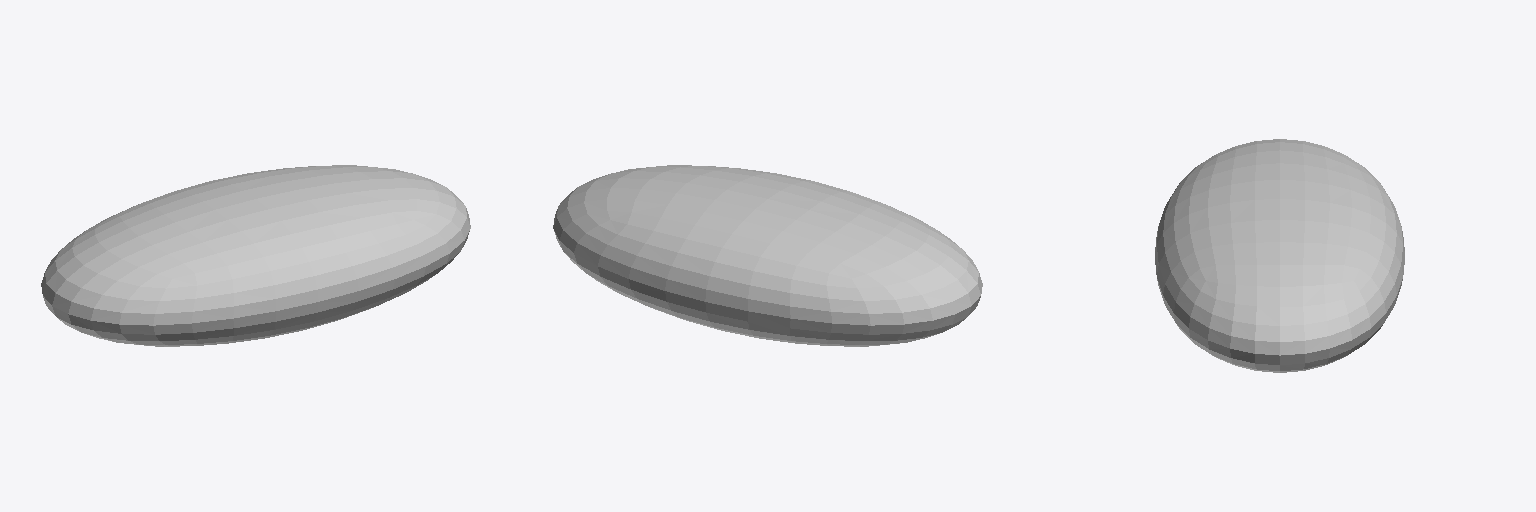
The model's file is soapbar.obj.
3 renders of one model, left to right at view 1: azimuth 30°, elevation 25°; view 2: azimuth 150°, elevation 25°; view 3: azimuth 270°, elevation 25°, orthographic.
Parts seen in each view (by area): view 1: Cube; view 2: Cube; view 3: Cube.
Boxes of the visible parts, <box> form: Cube: <box>41,165,470,346</box>; Cube: <box>553,165,982,346</box>; Cube: <box>1155,139,1404,372</box>.
Size of the model in its own units: 3.08 by 0.8236 by 1.64.